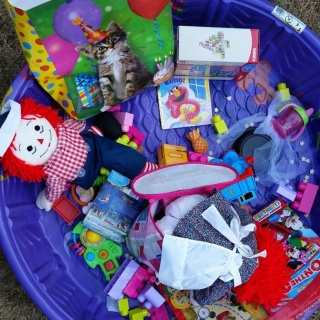Cat: (72, 16, 152, 110)
